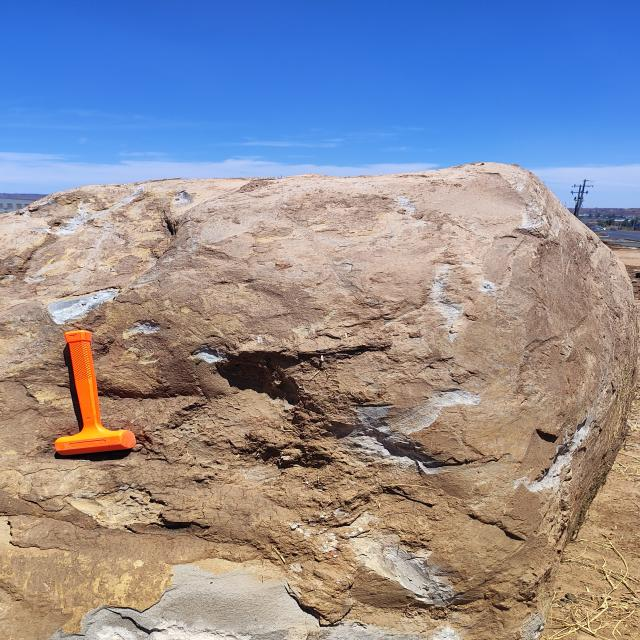Orange_hammer: (52, 329, 136, 456)
